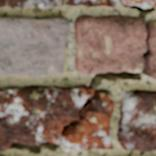brick: (0, 15, 68, 75), (117, 90, 155, 151), (0, 0, 88, 7), (122, 0, 155, 6), (90, 0, 107, 5), (111, 0, 117, 6)
broken_brick: (0, 84, 91, 146), (73, 14, 145, 75), (63, 89, 114, 151), (148, 19, 155, 79)
crack: (0, 0, 155, 154), (85, 0, 92, 6), (106, 0, 112, 6)
